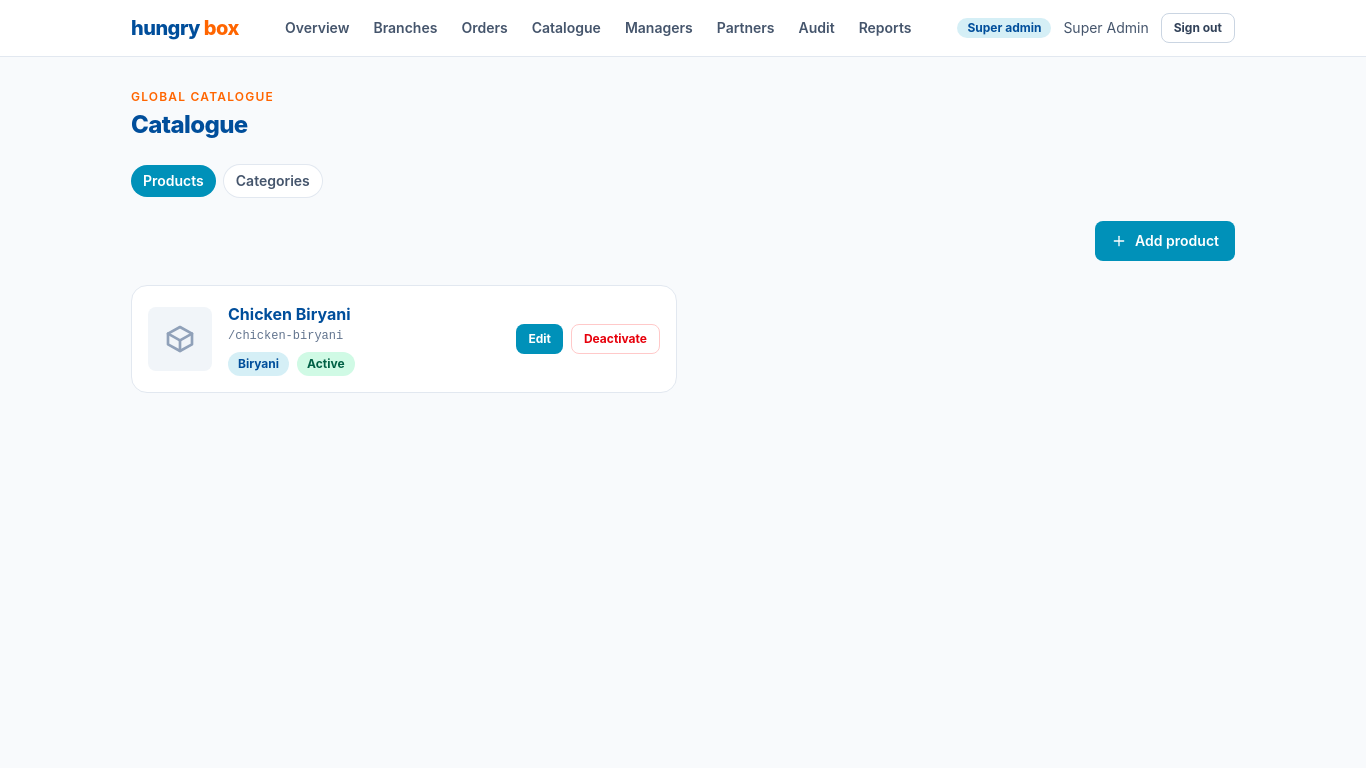
Test: admin catalogue product media › shows the image counter and disables uploads at the maximum of three
expect the text "Chicken Biryani" is shown: met, box [228, 304, 350, 324]
Step 1. Click the button "Edit" → (540, 339), box [516, 324, 563, 354]
(page scrolled)
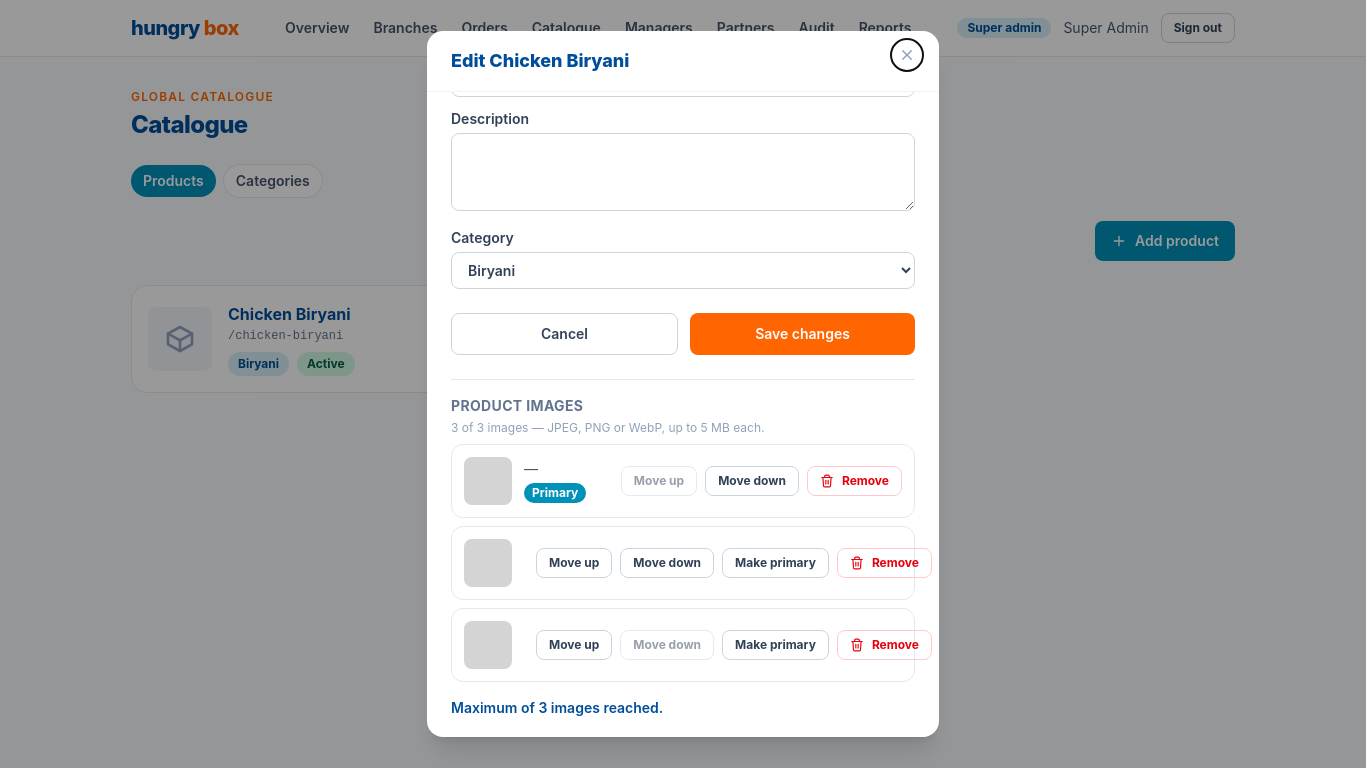
expect the text "3 of 3 images — JPEG, PNG or WebP, up to 5 MB each." is shown: met, box [451, 420, 764, 435]
expect the text "Maximum of 3 images reached." is shown: met, box [451, 699, 663, 716]
